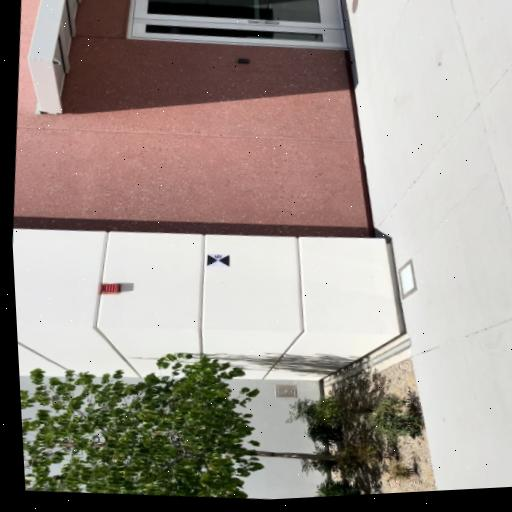target6: (207, 254, 230, 267)
